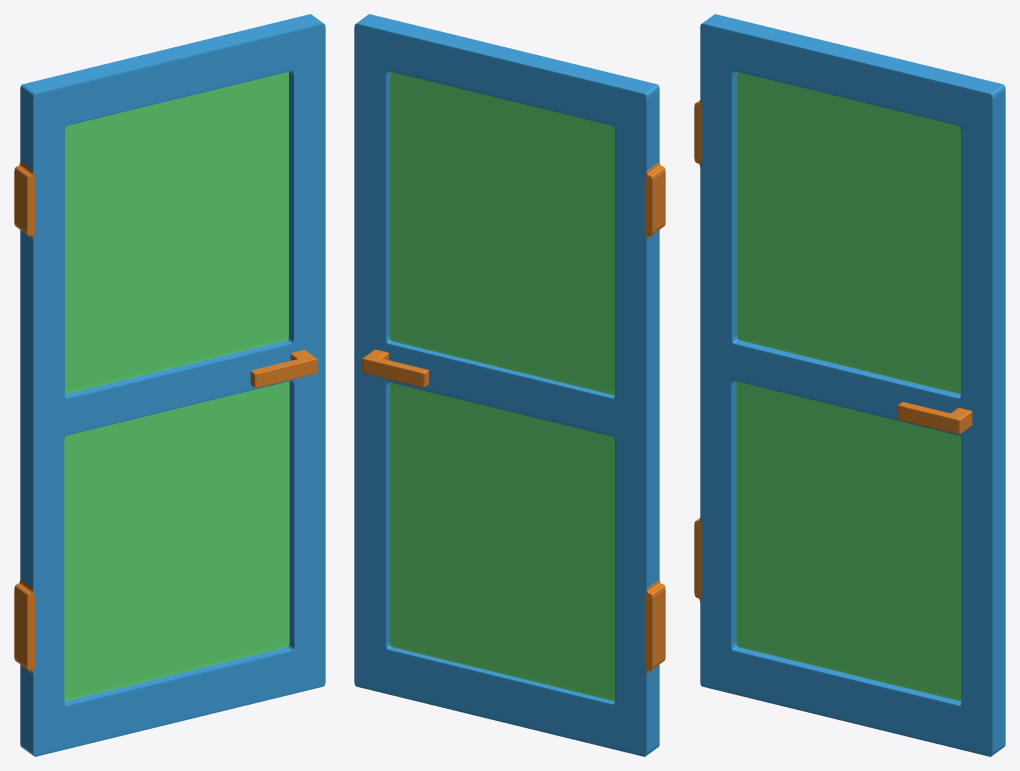
File: door.fbx
3 renders of one model, left to right at view 1: azimuth 30°, elevation 25°; view 2: azimuth 150°, elevation 25°; view 3: azimuth 330°, elevation 25°, orthographic.
Parts seen in each view (by area): view 1: door; view 2: door; view 3: door.
Boxes of the visible parts, x1,y1,x2,y2 form: door: (14, 14, 325, 756); door: (354, 14, 665, 756); door: (694, 14, 1005, 756).
Size of the model in its own units: 104 by 221 by 23.02.
